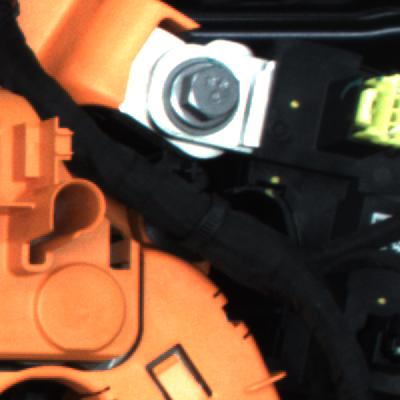nut_b: (163, 57, 245, 138)
